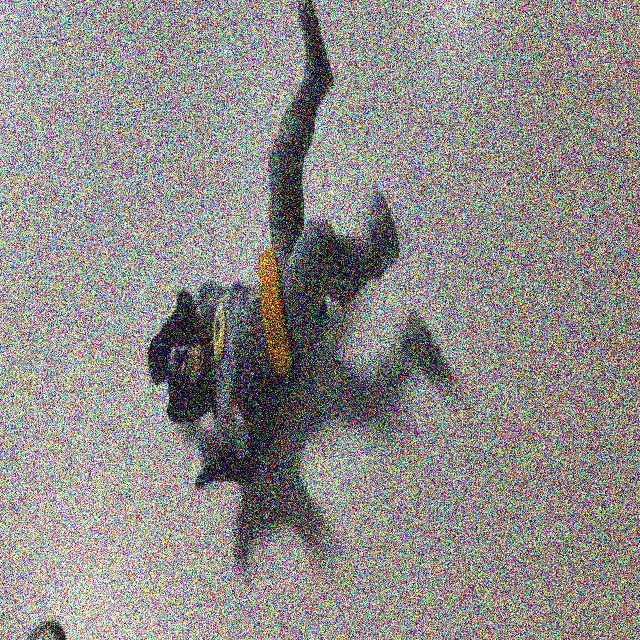Batman: (142, 1, 398, 537)
